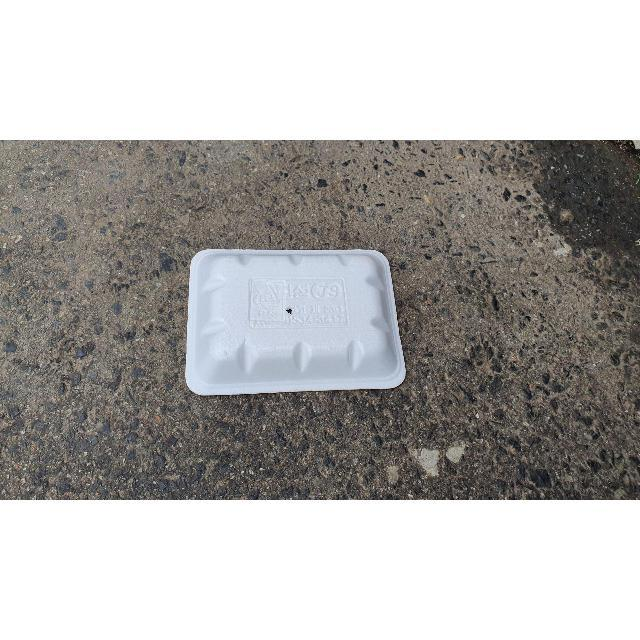Plastico descartable: (185, 250, 406, 399)
